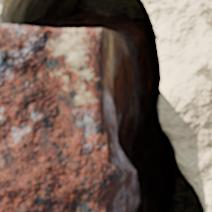brick: (0, 25, 134, 211)
crack: (2, 0, 211, 211)
